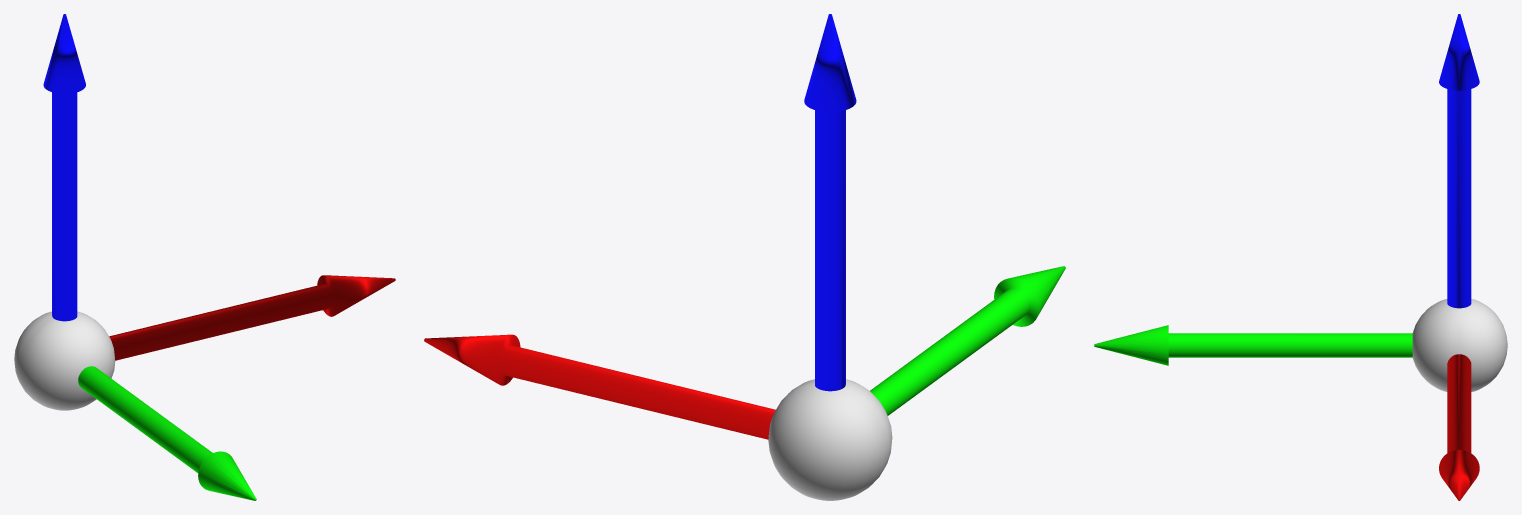
The model's file is frame1.glb.
The picture shows the model from 3 angles, left to right: view 1: azimuth 30°, elevation 25°; view 2: azimuth 150°, elevation 25°; view 3: azimuth 270°, elevation 25°; orthographic projection. The views are drawn at different scales.
Parts seen in each view (by area): view 1: Cylinder.001; view 2: Cylinder.001; view 3: Cylinder.001.
Part boxes in pixels (bbox=[...]): Cylinder.001: bbox=[14, 14, 395, 500]; Cylinder.001: bbox=[424, 14, 1065, 500]; Cylinder.001: bbox=[1094, 14, 1507, 500].
Bounding box in the file's own units: 8.54 × 8.54 × 8.54.
